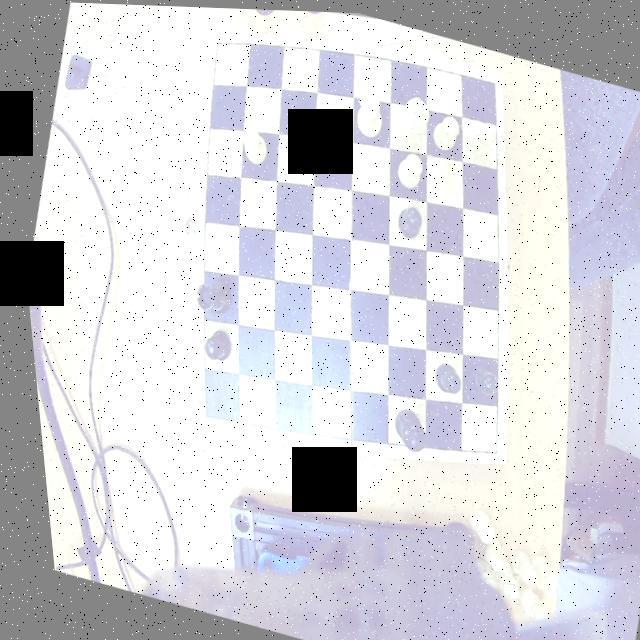chess-table-corners: (185, 396, 218, 428), (478, 64, 506, 98), (469, 432, 499, 463), (206, 26, 234, 54)
